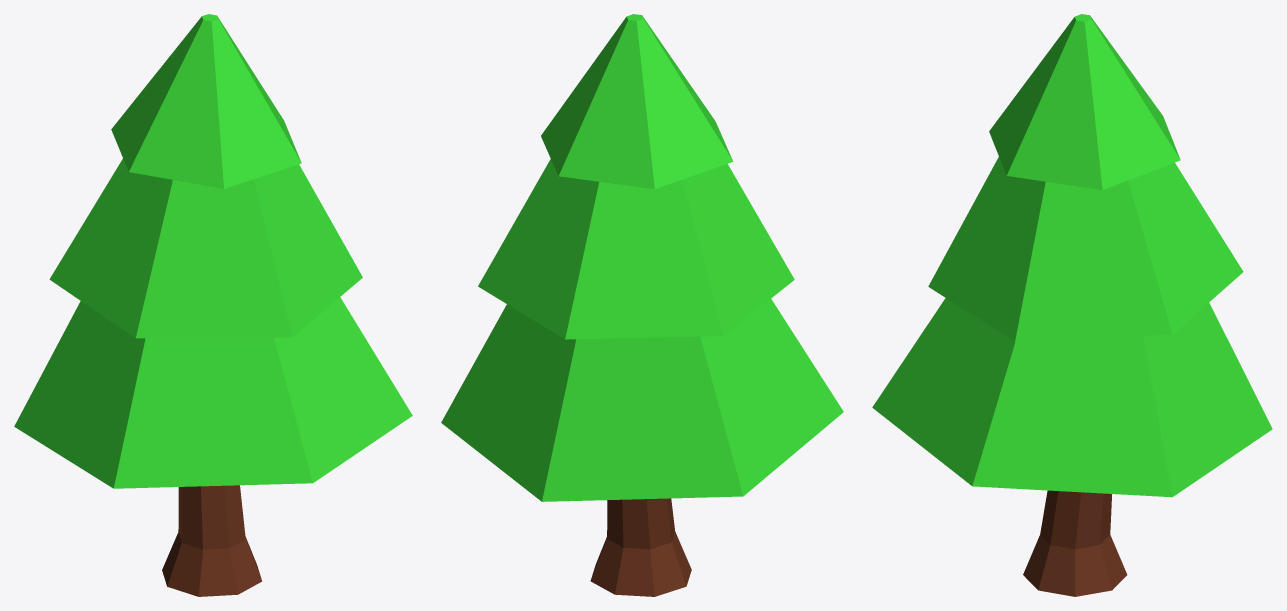
File: treeC.fbx
The picture shows the model from 3 angles, left to right: view 1: azimuth 30°, elevation 25°; view 2: azimuth 150°, elevation 25°; view 3: azimuth 270°, elevation 25°; orthographic projection.
Visible parts, largest first — view 1: treeC; view 2: treeC; view 3: treeC.
Part boxes in pixels (left/top/right/bottom): treeC: left=14, top=14, right=412, bottom=596; treeC: left=441, top=14, right=843, bottom=596; treeC: left=872, top=14, right=1272, bottom=596.
Size of the model in its own units: 431 by 764 by 497.
